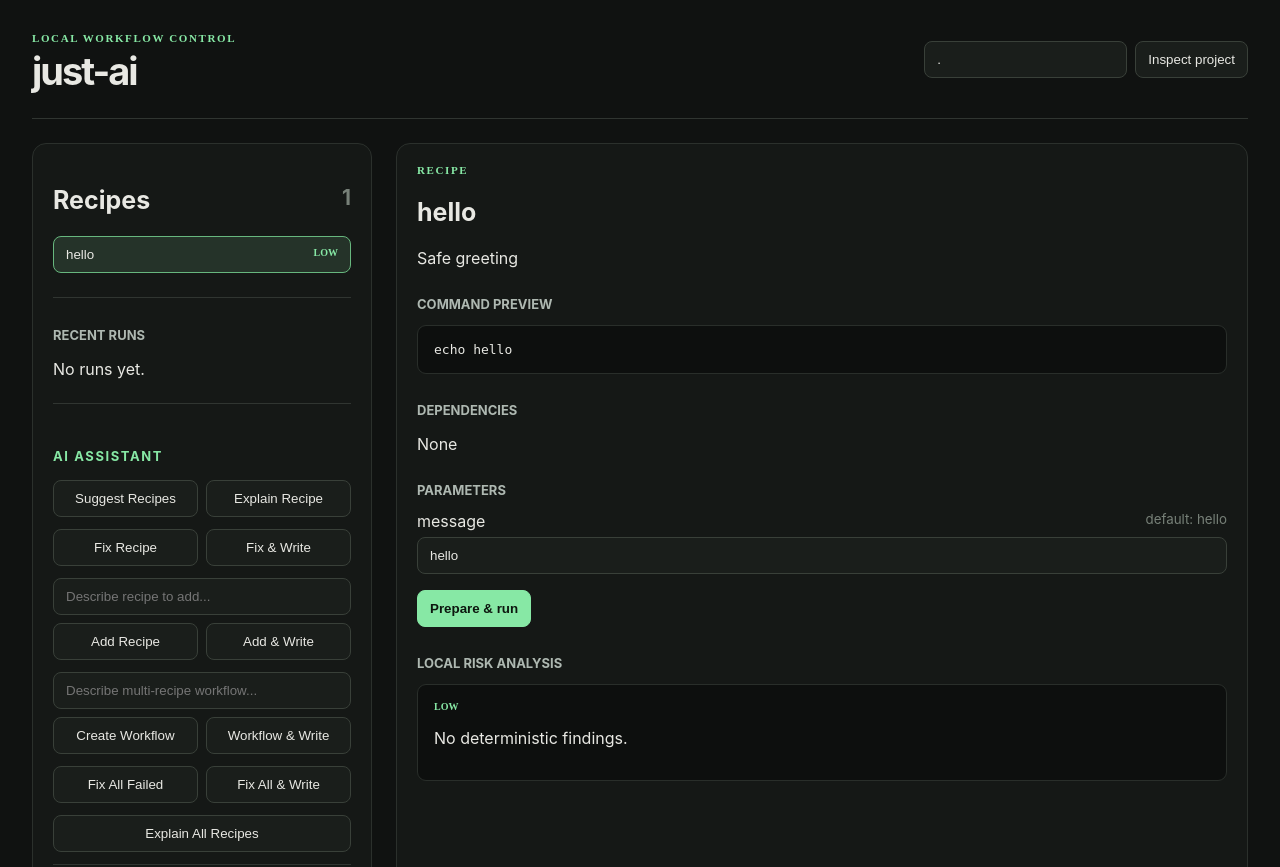
Test: desktop user workflows › refuses denied runs before execute IPC
Click the button "Prepare & run" at (474, 608), box x1=417 y1=590 x2=531 y2=626
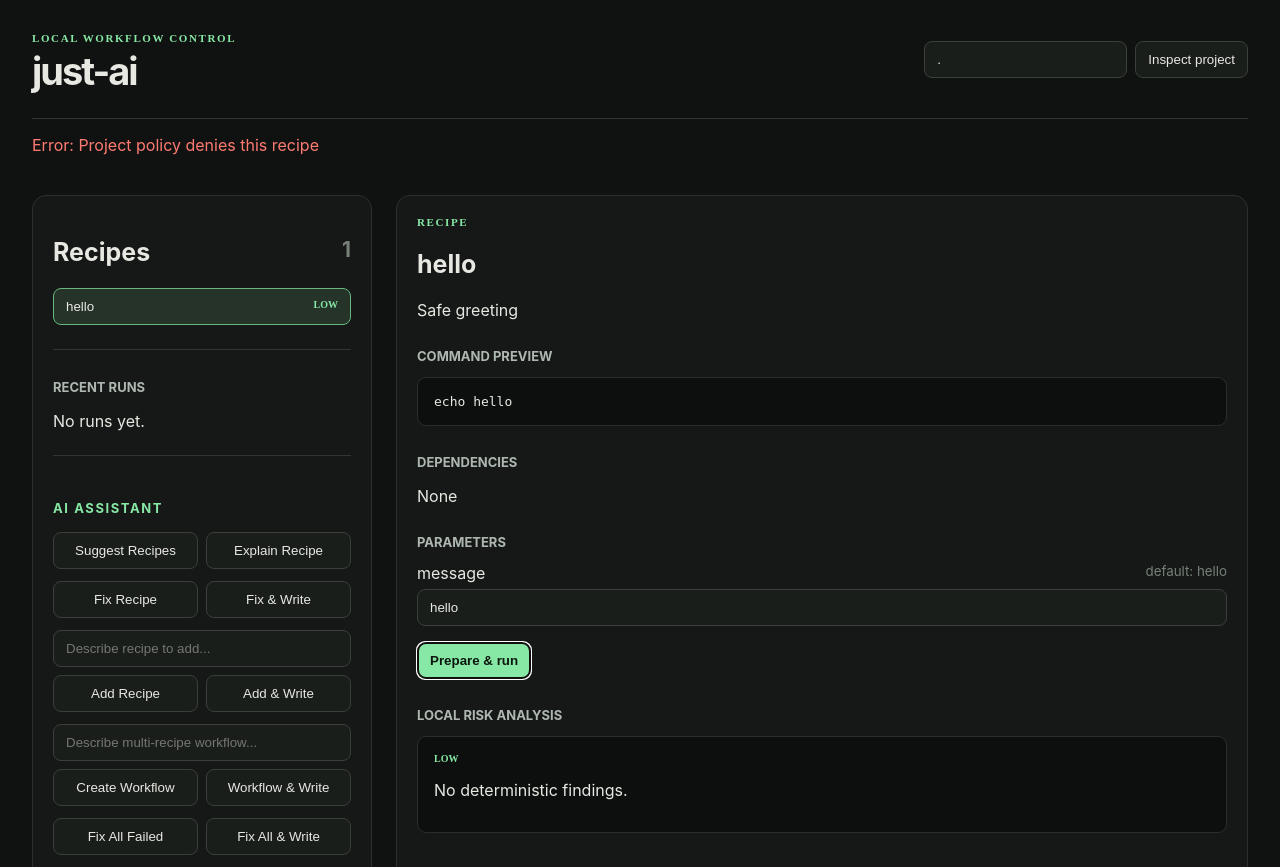
Check: the text "Error: Project policy denies this recipe" is shown, box x1=32 y1=135 x2=319 y2=155
